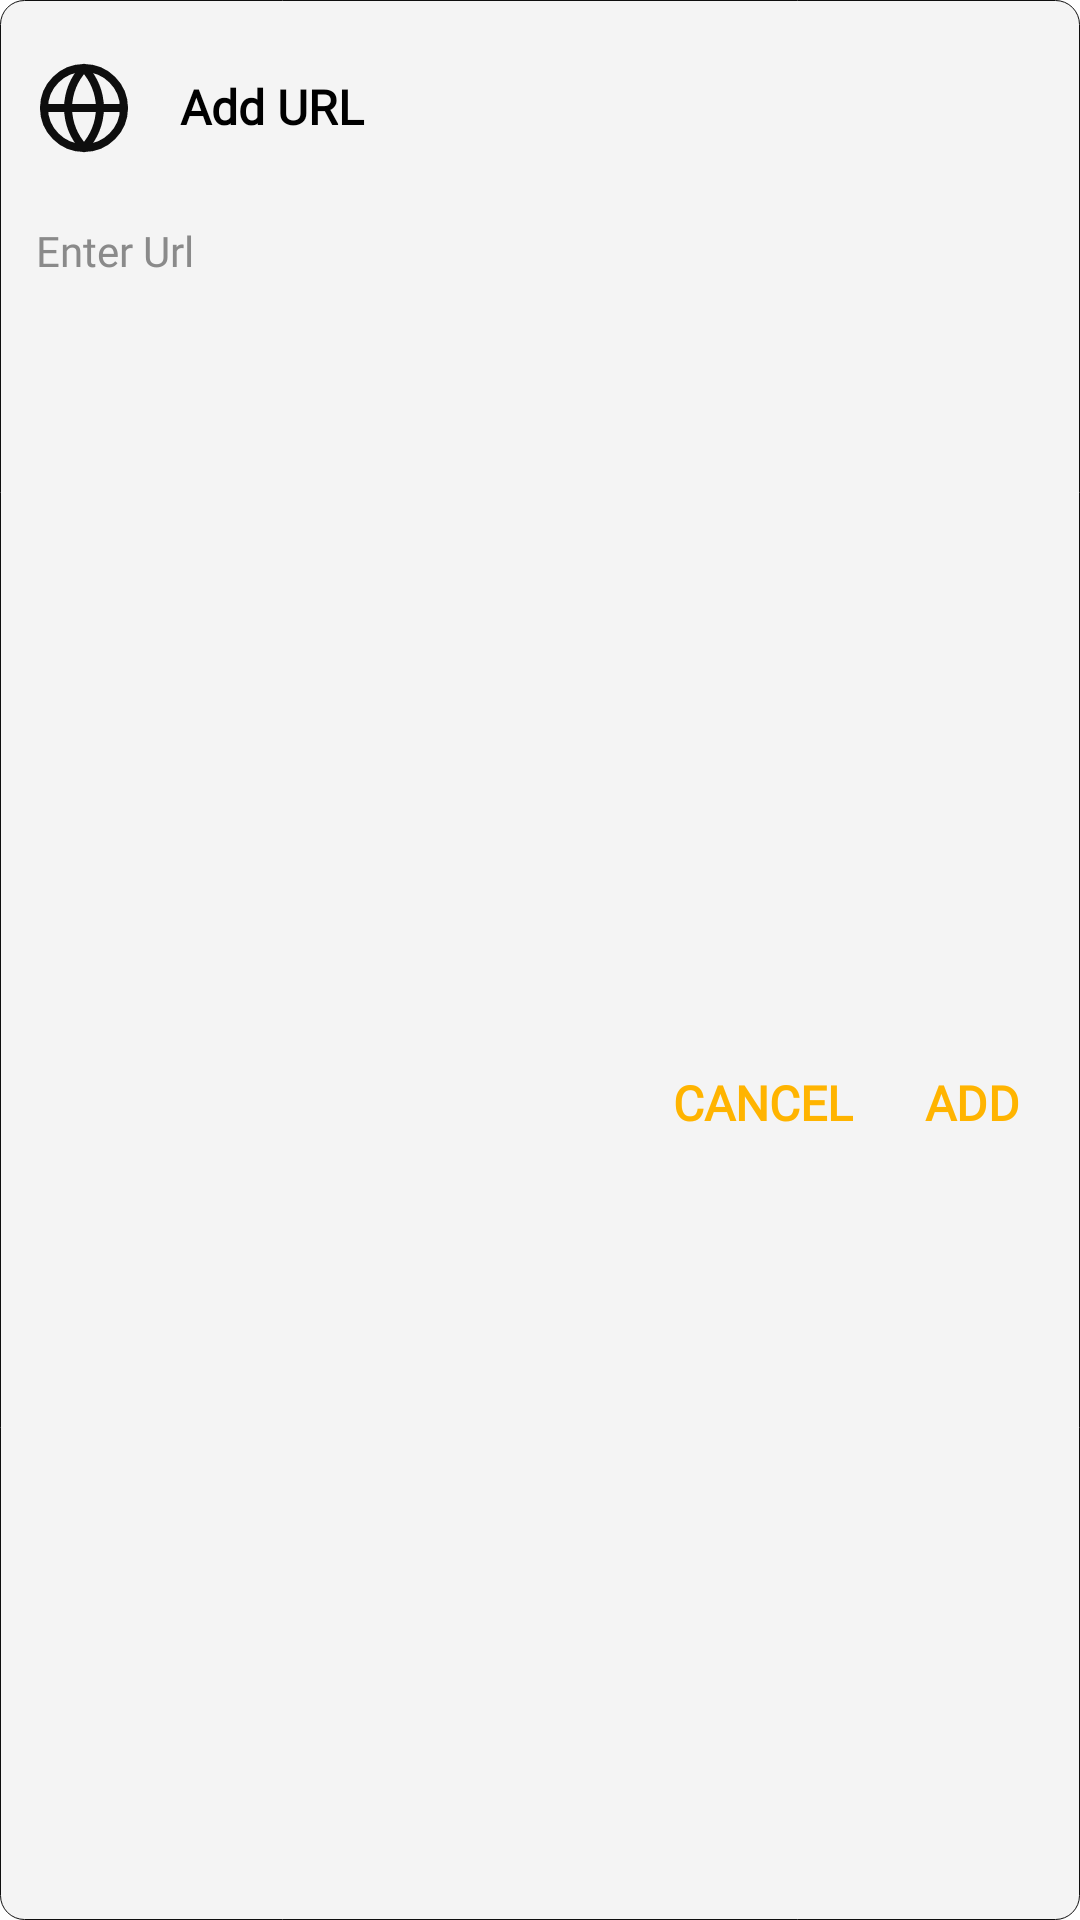

Icons on this 1080w x 1920h Android screen, each with the point to tap as (x,y):
web link: (84,108)
